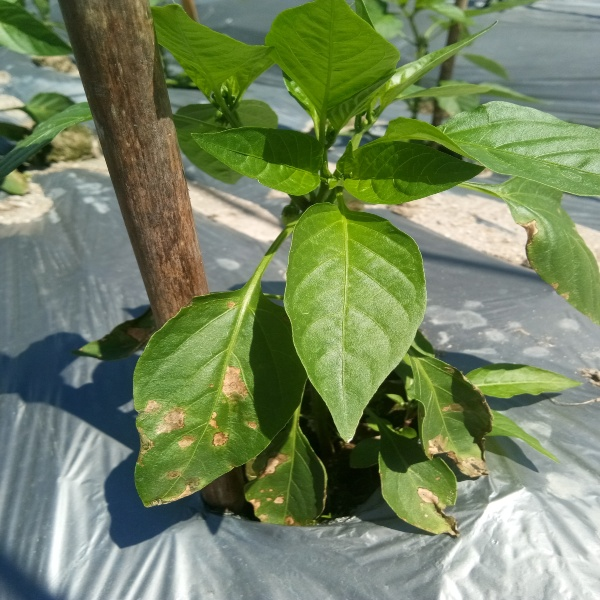Anthrax: (131, 366, 254, 506), (420, 401, 492, 475), (251, 455, 307, 524), (403, 477, 464, 537)
